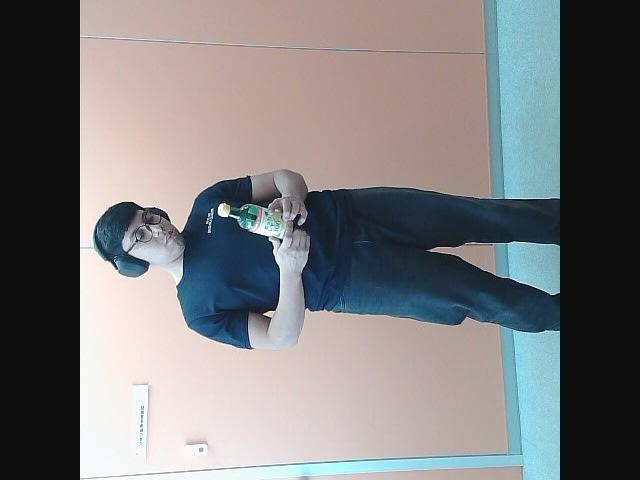Lemon_sapporo: (212, 198, 297, 238)
